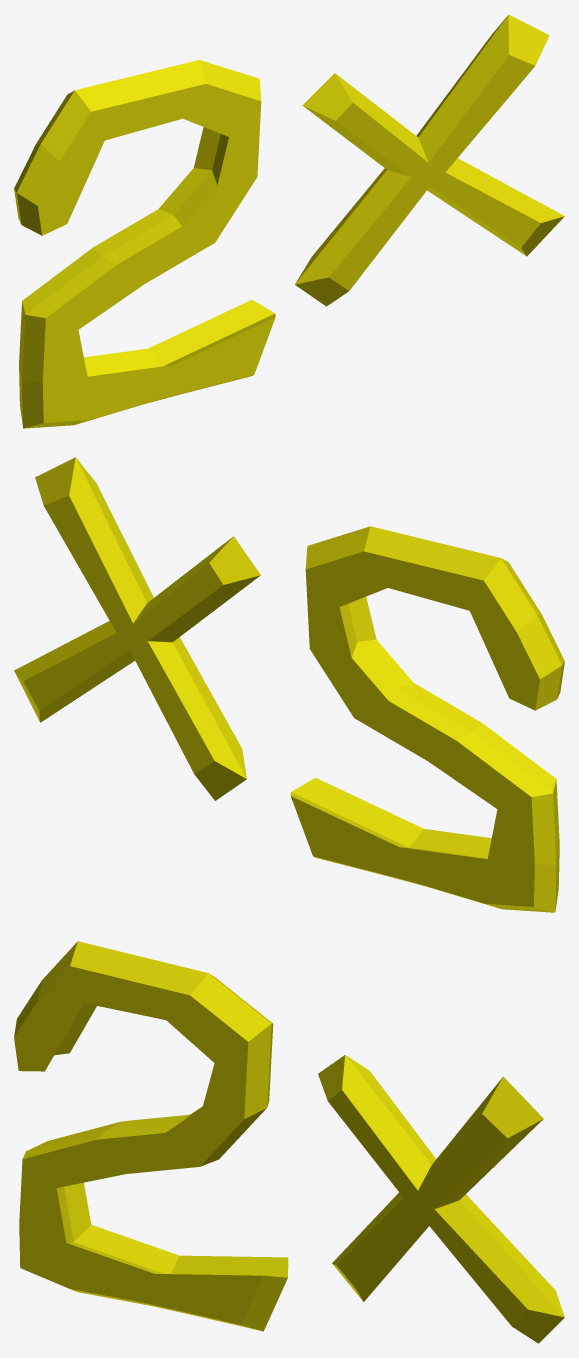
The picture shows the model from 3 angles, top to bottom: view 1: azimuth 30°, elevation 25°; view 2: azimuth 150°, elevation 25°; view 3: azimuth 330°, elevation 25°; orthographic projection. The views are drawn at different scales.
Visible parts, largest first — view 1: Plane, Plane.001; view 2: Plane, Plane.001; view 3: Plane, Plane.001.
Boxes of the visible parts, x1,y1,x2,y2 form: Plane: (14, 60, 275, 428); Plane.001: (295, 14, 564, 306); Plane: (290, 526, 564, 912); Plane.001: (14, 457, 260, 800); Plane: (14, 941, 288, 1331); Plane.001: (318, 1055, 564, 1343).
Size of the model in its own units: 327 by 196 by 46.16.
